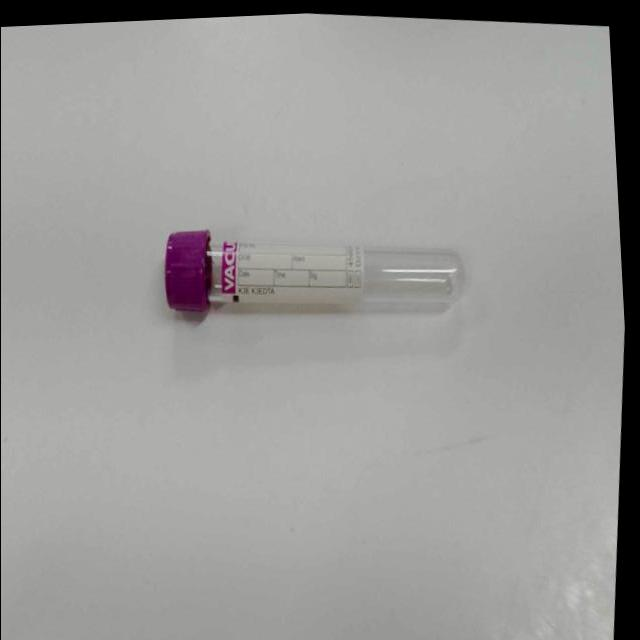Sharps: (164, 230, 465, 317)
